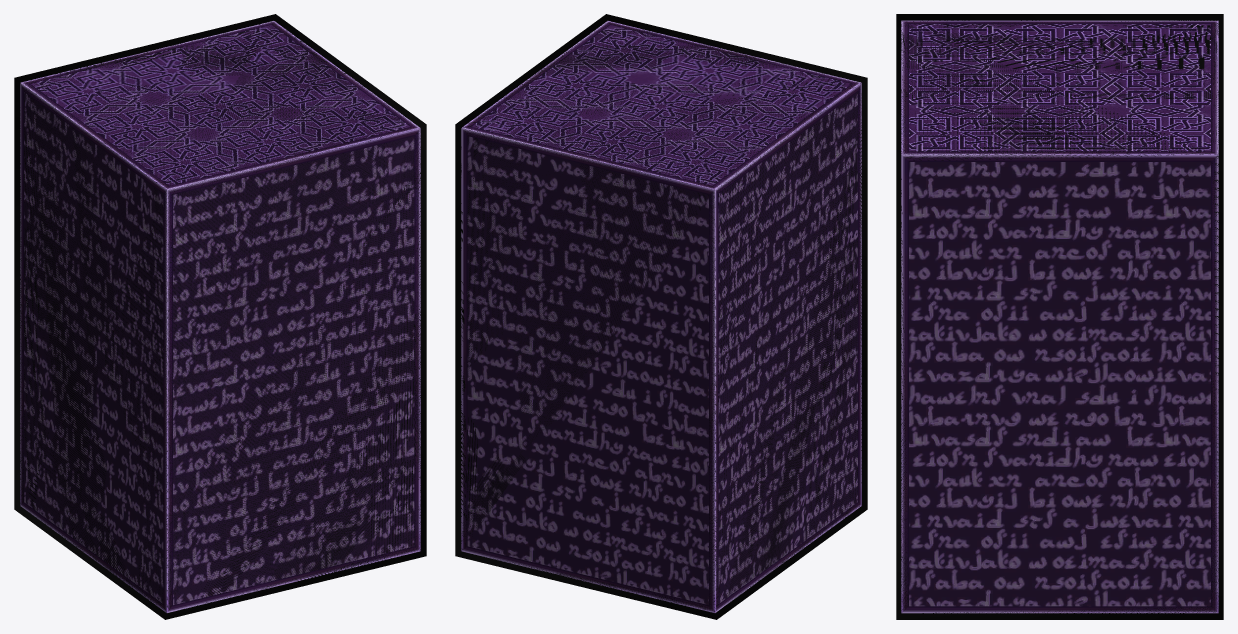
File: WonderBlock8.gltf
3 views of the same model, side by side, from view 1: azimuth 30°, elevation 25°; view 2: azimuth 150°, elevation 25°; view 3: azimuth 270°, elevation 25° (orthographic). The views are drawn at different scales.
Visible parts, largest first — view 1: WonderBlock8Mesh, WonderBlock8ZWriteMesh, WonderBlock8BloomMesh; view 2: WonderBlock8Mesh, WonderBlock8ZWriteMesh, WonderBlock8BloomMesh; view 3: WonderBlock8Mesh, WonderBlock8ZWriteMesh, WonderBlock8BloomMesh.
Part boxes in pixels (left/top/right/bottom): WonderBlock8Mesh: left=20, top=21, right=420, bottom=612; WonderBlock8ZWriteMesh: left=20, top=21, right=420, bottom=609; WonderBlock8BloomMesh: left=14, top=14, right=426, bottom=619; WonderBlock8Mesh: left=461, top=21, right=861, bottom=612; WonderBlock8ZWriteMesh: left=461, top=21, right=861, bottom=611; WonderBlock8BloomMesh: left=455, top=14, right=867, bottom=619; WonderBlock8Mesh: left=901, top=20, right=1218, bottom=613; WonderBlock8ZWriteMesh: left=901, top=20, right=1218, bottom=613; WonderBlock8BloomMesh: left=896, top=14, right=1223, bottom=619.
Size of the model in its own units: 5.2 by 8.2 by 5.2.
4 materials, 2 textured.
